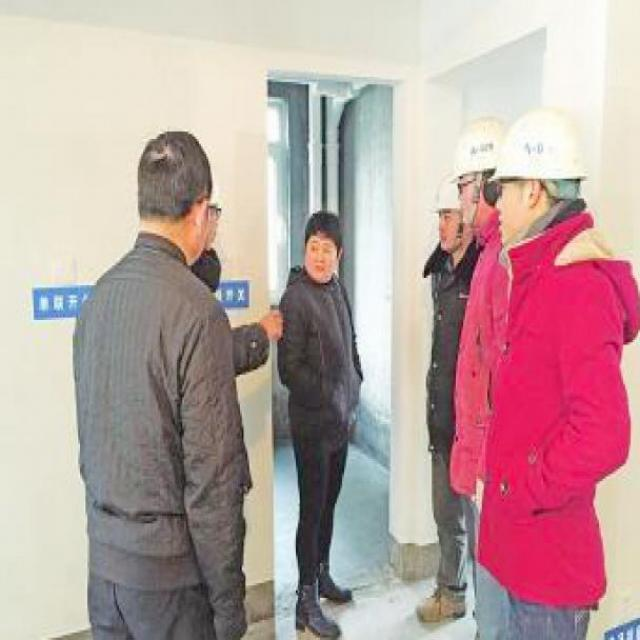helmet: (487, 99, 597, 238), (446, 109, 508, 236)
